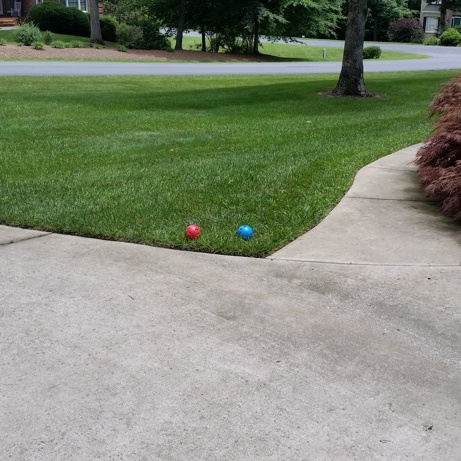ball: (232, 222, 257, 243), (183, 221, 202, 240)
